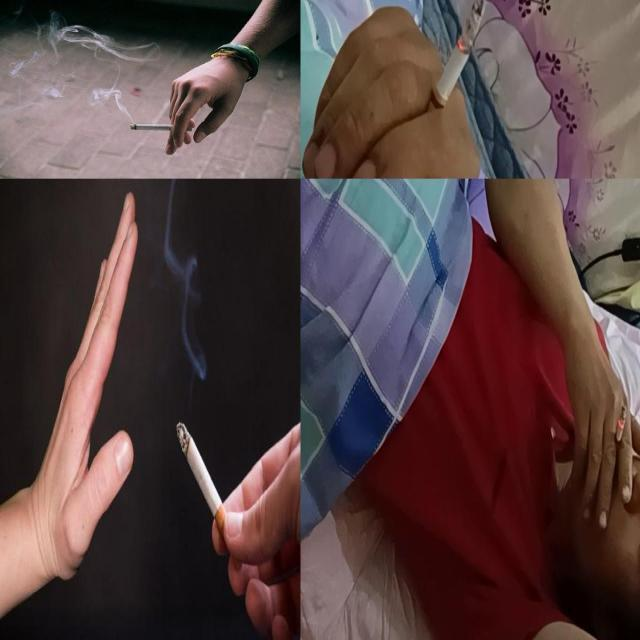smoking: (176, 422, 243, 572), (422, 0, 488, 134), (614, 404, 626, 454), (129, 124, 194, 132)
